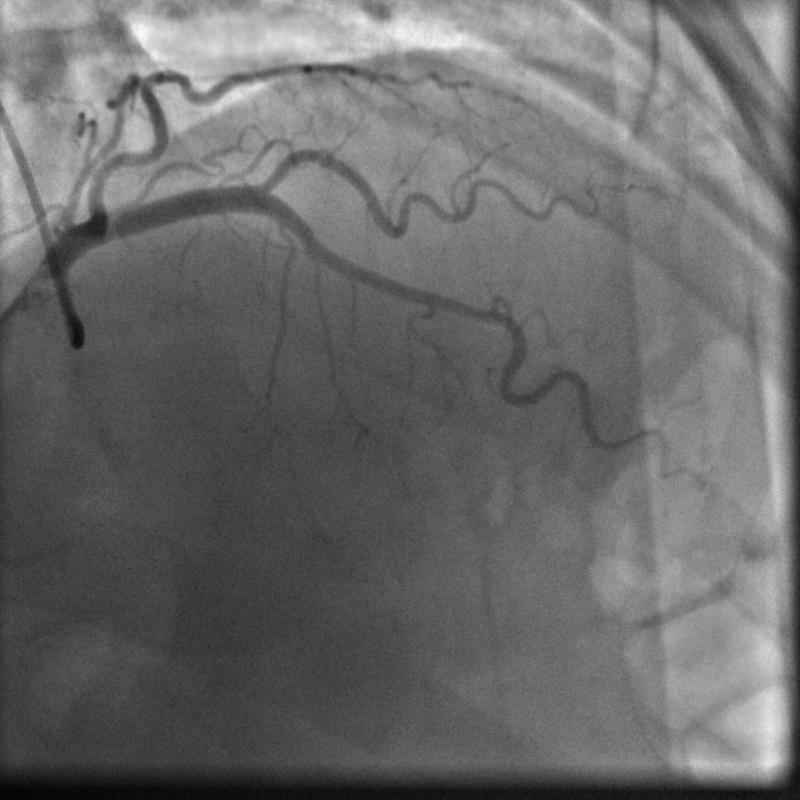Stenosis: (456, 296, 515, 330)
